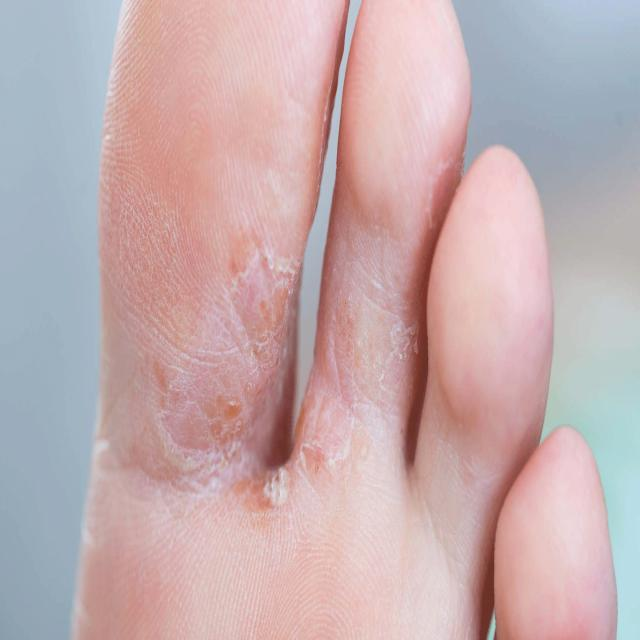tinea: (56, 17, 528, 609)
